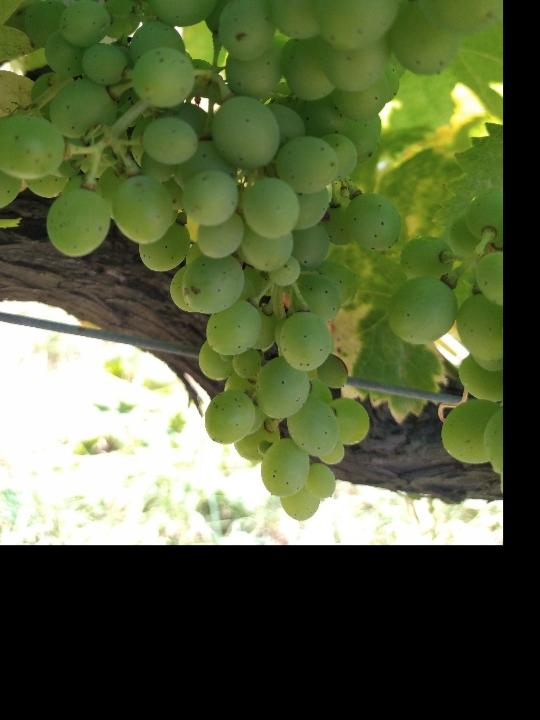grape: (0, 0, 499, 525)
